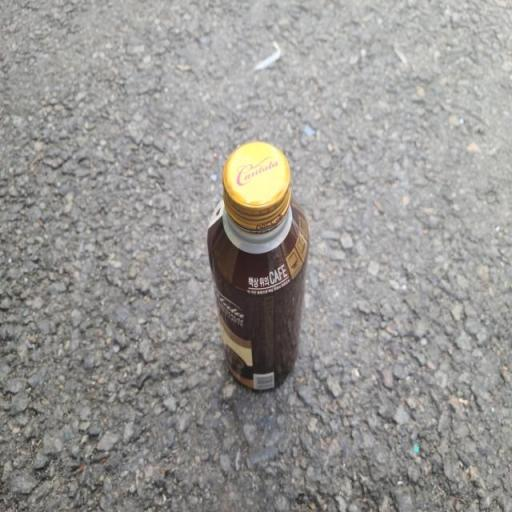metal: (164, 129, 328, 414)
